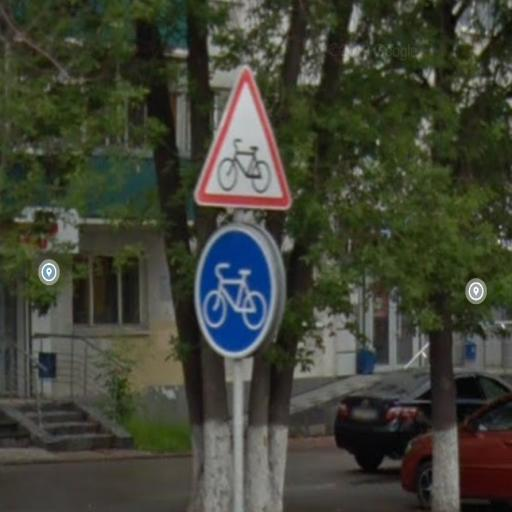traffic_sign: (192, 62, 294, 213), (194, 223, 278, 362)
